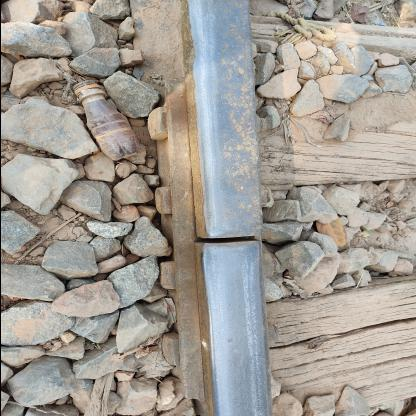Non Defective 2: (184, 190, 274, 288)
Non Defective 3: (121, 60, 202, 402)
